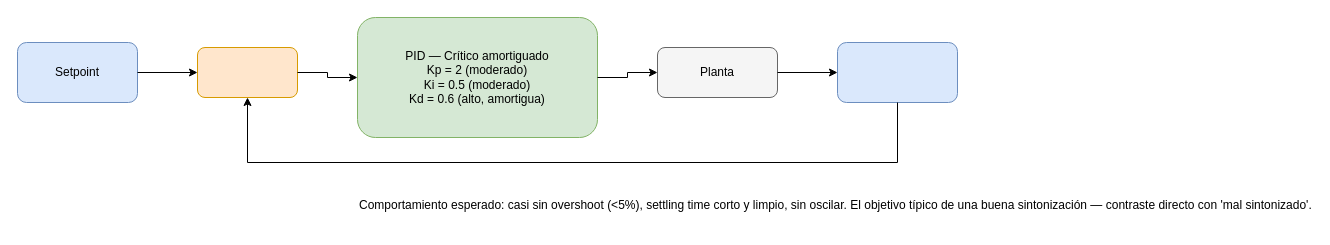
This 1330x245 diagram has some shape labels left out. Each missing label, with the centre of its shape:
"Salida y(t)" goes at (x=897, y=72).
"Σ error" goes at (x=247, y=72).
